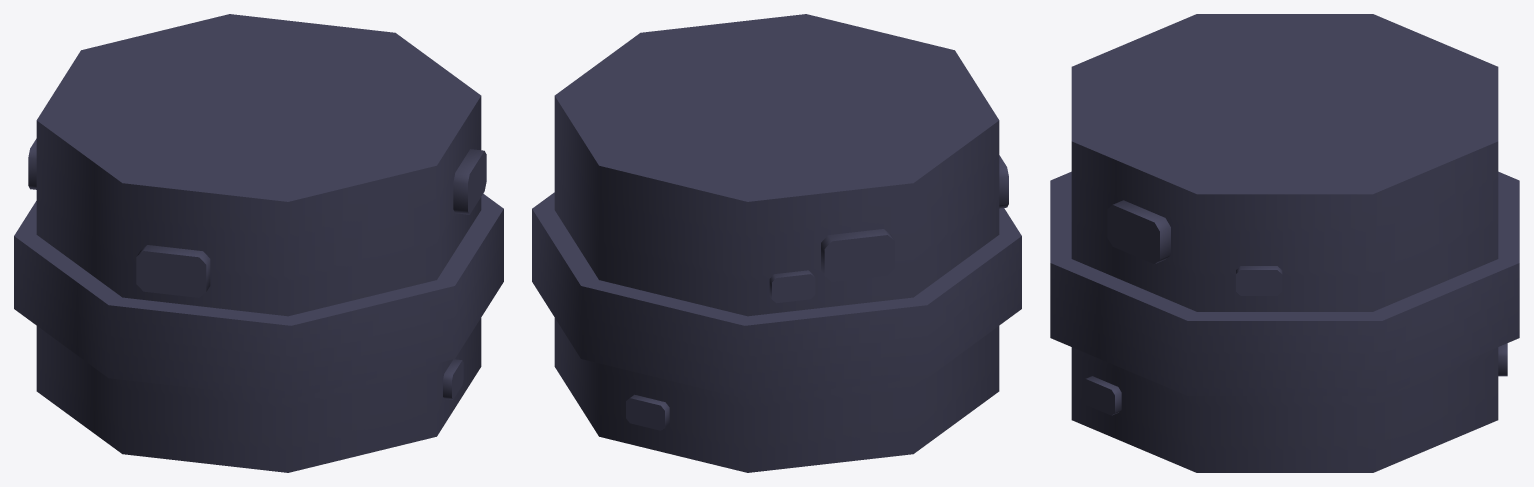
The model's file is tower-middle.fbx.
3 renders of one model, left to right at view 1: azimuth 30°, elevation 25°; view 2: azimuth 150°, elevation 25°; view 3: azimuth 270°, elevation 25°, orthographic. The views are drawn at different scales.
Visible parts, largest first — view 1: tower-middle; view 2: tower-middle; view 3: tower-middle.
Part boxes in pixels (x1,y1,x2,y2): tower-middle: [14, 14, 503, 472]; tower-middle: [532, 14, 1021, 472]; tower-middle: [1050, 14, 1519, 472].
Size of the model in its own units: 305 by 200 by 305.
